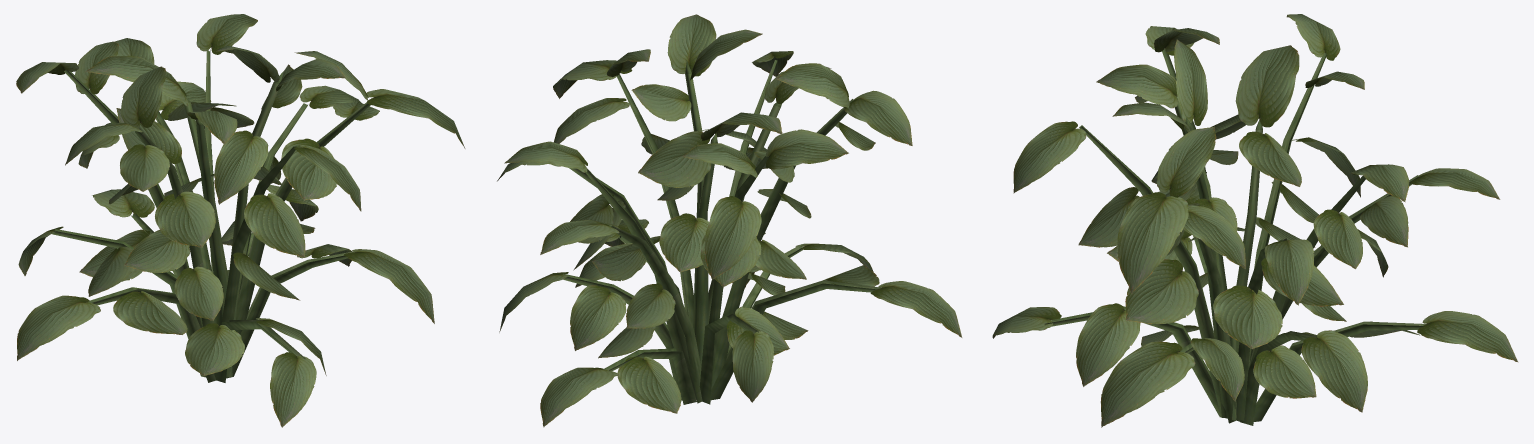
The model's file is Plant-1.fbx.
3 views of the same model, side by side, from view 1: azimuth 30°, elevation 25°; view 2: azimuth 150°, elevation 25°; view 3: azimuth 270°, elevation 25° (orthographic). The views are drawn at different scales.
Visible parts, largest first — view 1: medium_plant_01; view 2: medium_plant_01; view 3: medium_plant_01.
Part boxes in pixels (<box>): medium_plant_01: <box>16,14,465,427</box>; medium_plant_01: <box>497,14,962,427</box>; medium_plant_01: <box>992,14,1518,427</box>.
Bounding box in the file's own units: 3.71 × 2.92 × 3.85.
